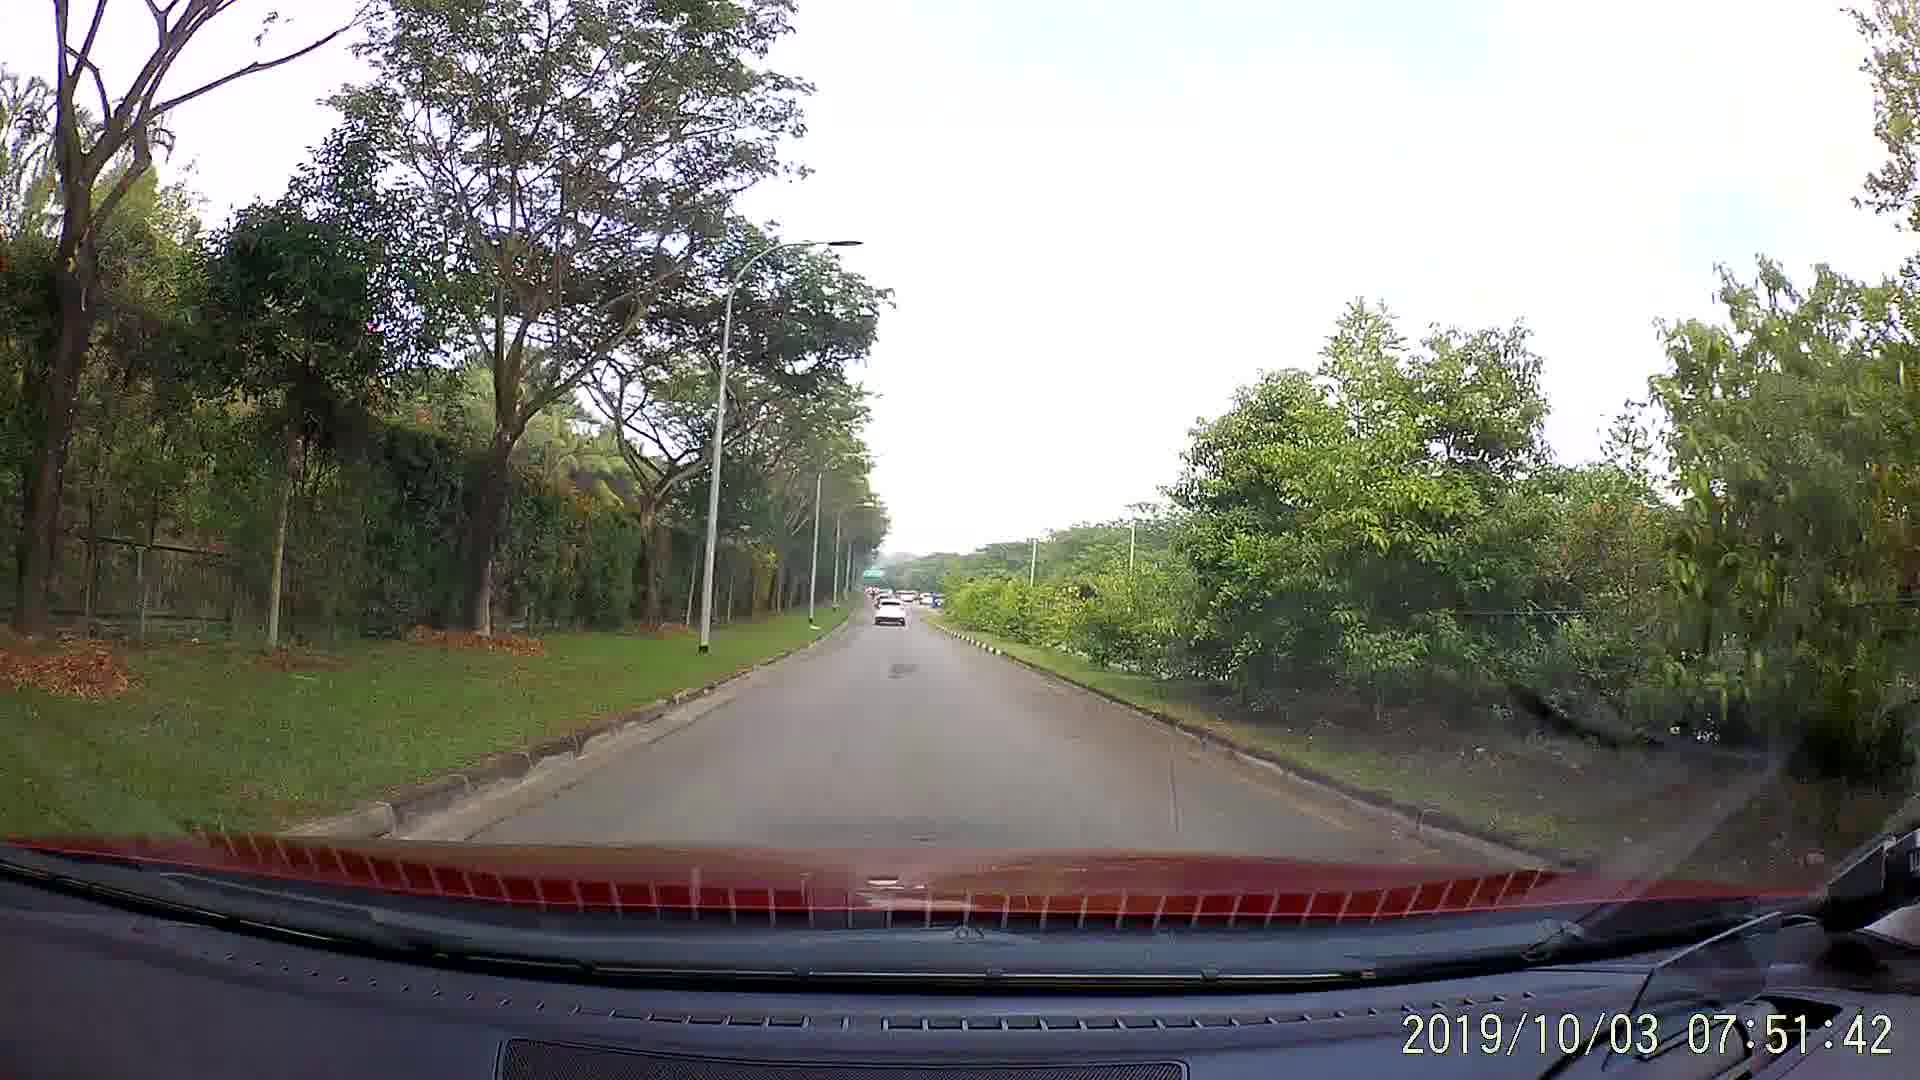car: (874, 597, 909, 626)
